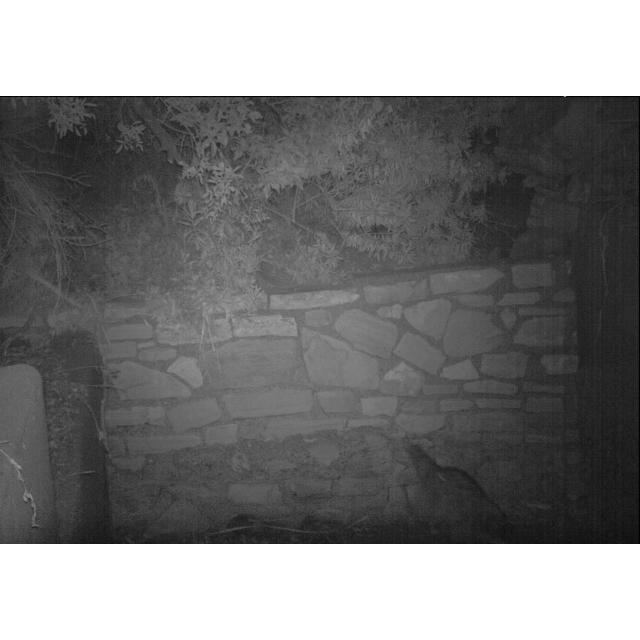animals: (403, 438, 511, 544)
